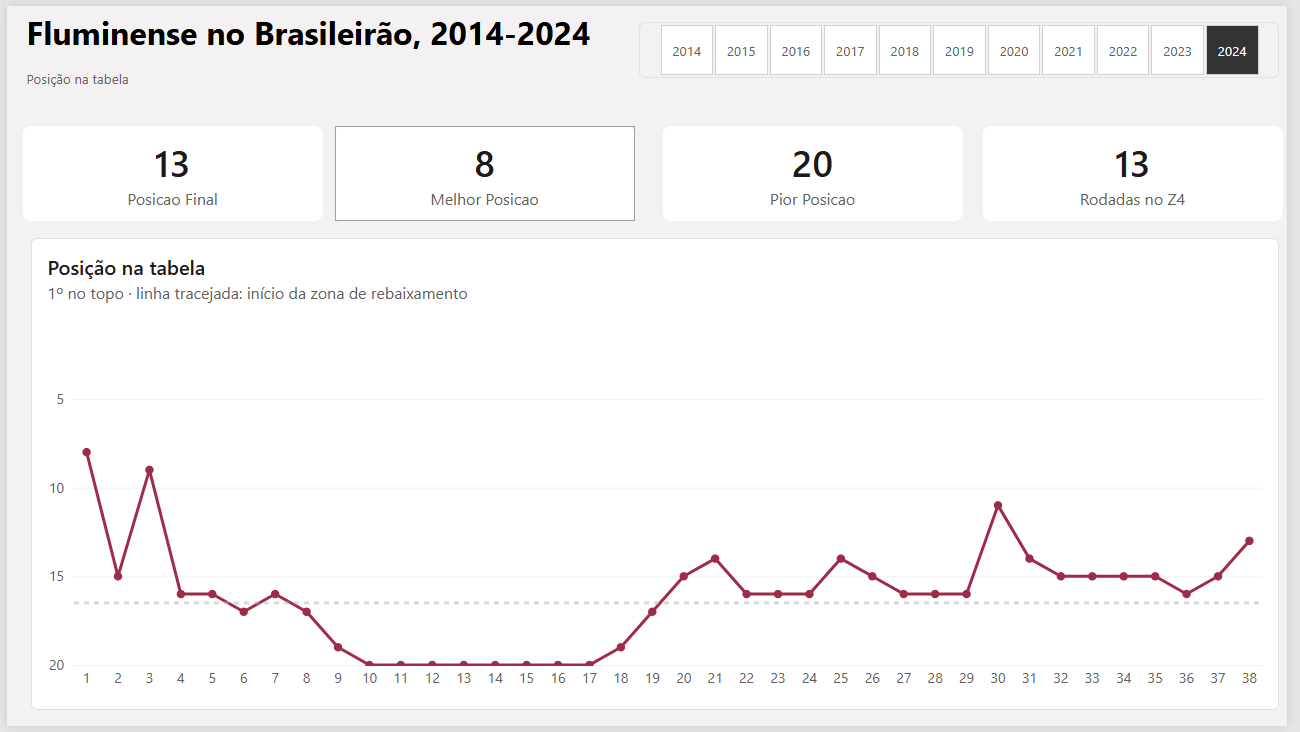

What the dashboard file says about the page in this screenshot:
{"tool":"powerbi","page":{"name":"Posição na tabela","canvas":[1280,720],"ordinal":3},"visuals":[{"type":"textbox","box":[16,0,640,112],"z":0},{"type":"slicer","fields":{"Values":["dim_temporada.temporada"]},"box":[632,16,640,56],"z":1000},{"type":"cardVisual","fields":{"Data":["Medidas.Posicao Final"]},"box":[16,120,300,95],"z":2000},{"type":"cardVisual","fields":{"Data":["Medidas.Pior Posicao"]},"box":[656,120,300,95],"z":3000},{"type":"cardVisual","fields":{"Data":["Medidas.Melhor Posicao"]},"box":[328,120,300,95],"z":4000},{"type":"cardVisual","fields":{"Data":["Medidas.Rodadas no Z4"]},"box":[976,120,300,95],"z":5000},{"type":"lineChart","title":"Posição na tabela","fields":{"Category":["Posicao.rodada"],"Y":["Medidas.Posicao Rodada"]},"box":[24,232,1248,472],"z":6000}]}

Visuals, with their boxes in screenshot pixels (x1, y1, x2, y2), scaled from the page's 1280x720 canvas onto the 1300x732 screenshot:
textbox: region(16, 0, 666, 114)
slicer - dim_temporada.temporada: region(642, 16, 1292, 73)
cardVisual - Medidas.Posicao Final: region(16, 122, 321, 219)
cardVisual - Medidas.Pior Posicao: region(666, 122, 971, 219)
cardVisual - Medidas.Melhor Posicao: region(333, 122, 638, 219)
cardVisual - Medidas.Rodadas no Z4: region(991, 122, 1296, 219)
"Posição na tabela" lineChart: region(24, 236, 1292, 716)
